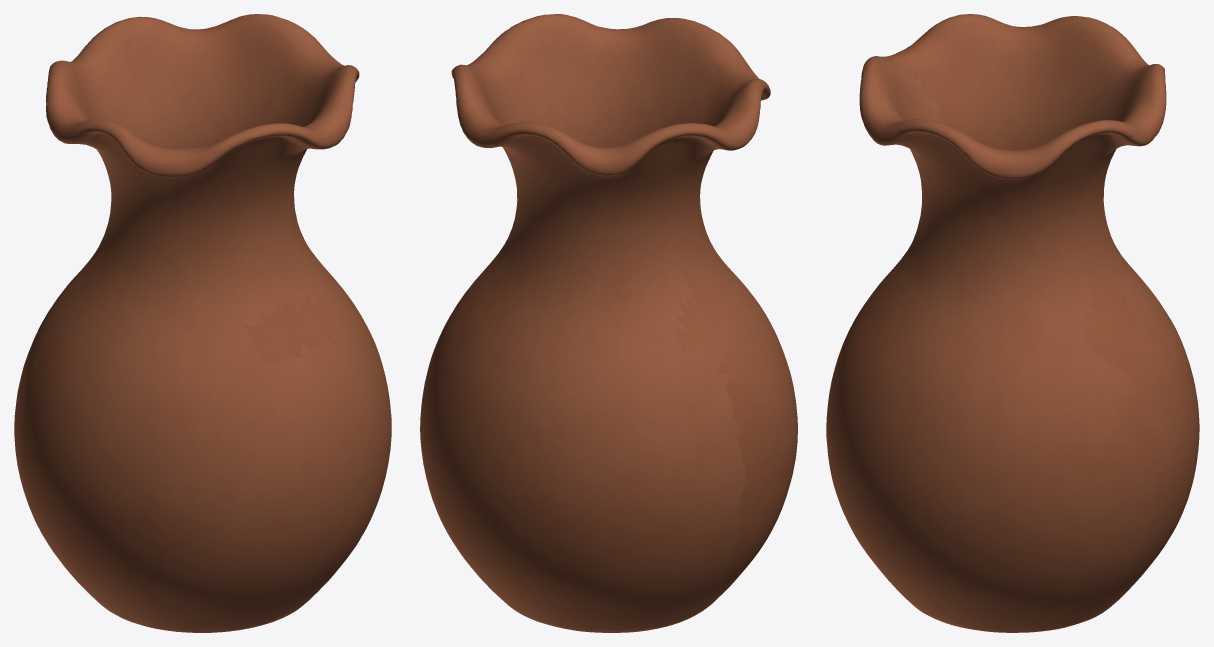
File: b773c487-dff9-49bf-b2cb-e923507f06f9.glb
3 views of the same model, side by side, from view 1: azimuth 30°, elevation 25°; view 2: azimuth 150°, elevation 25°; view 3: azimuth 270°, elevation 25° (orthographic).
Parts seen in each view (by area): view 1: tmphlk0n6hr.ply; view 2: tmphlk0n6hr.ply; view 3: tmphlk0n6hr.ply.
Part boxes in pixels (x1,y1,x2,y2): tmphlk0n6hr.ply: (14, 14, 391, 632); tmphlk0n6hr.ply: (420, 14, 797, 632); tmphlk0n6hr.ply: (826, 14, 1199, 632).
Bounding box in the file's own units: 1.3 × 1.96 × 1.28.
1 material, 1 textured.
